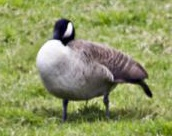goose: (30, 15, 157, 127)
